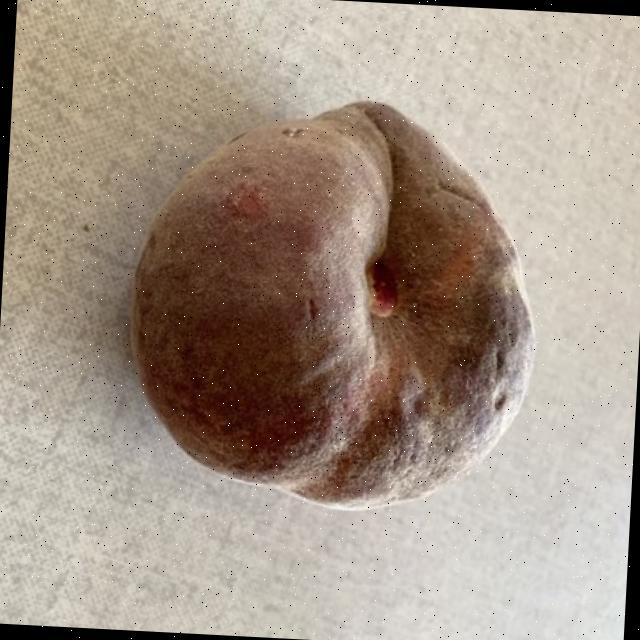peach: (138, 102, 530, 502)
